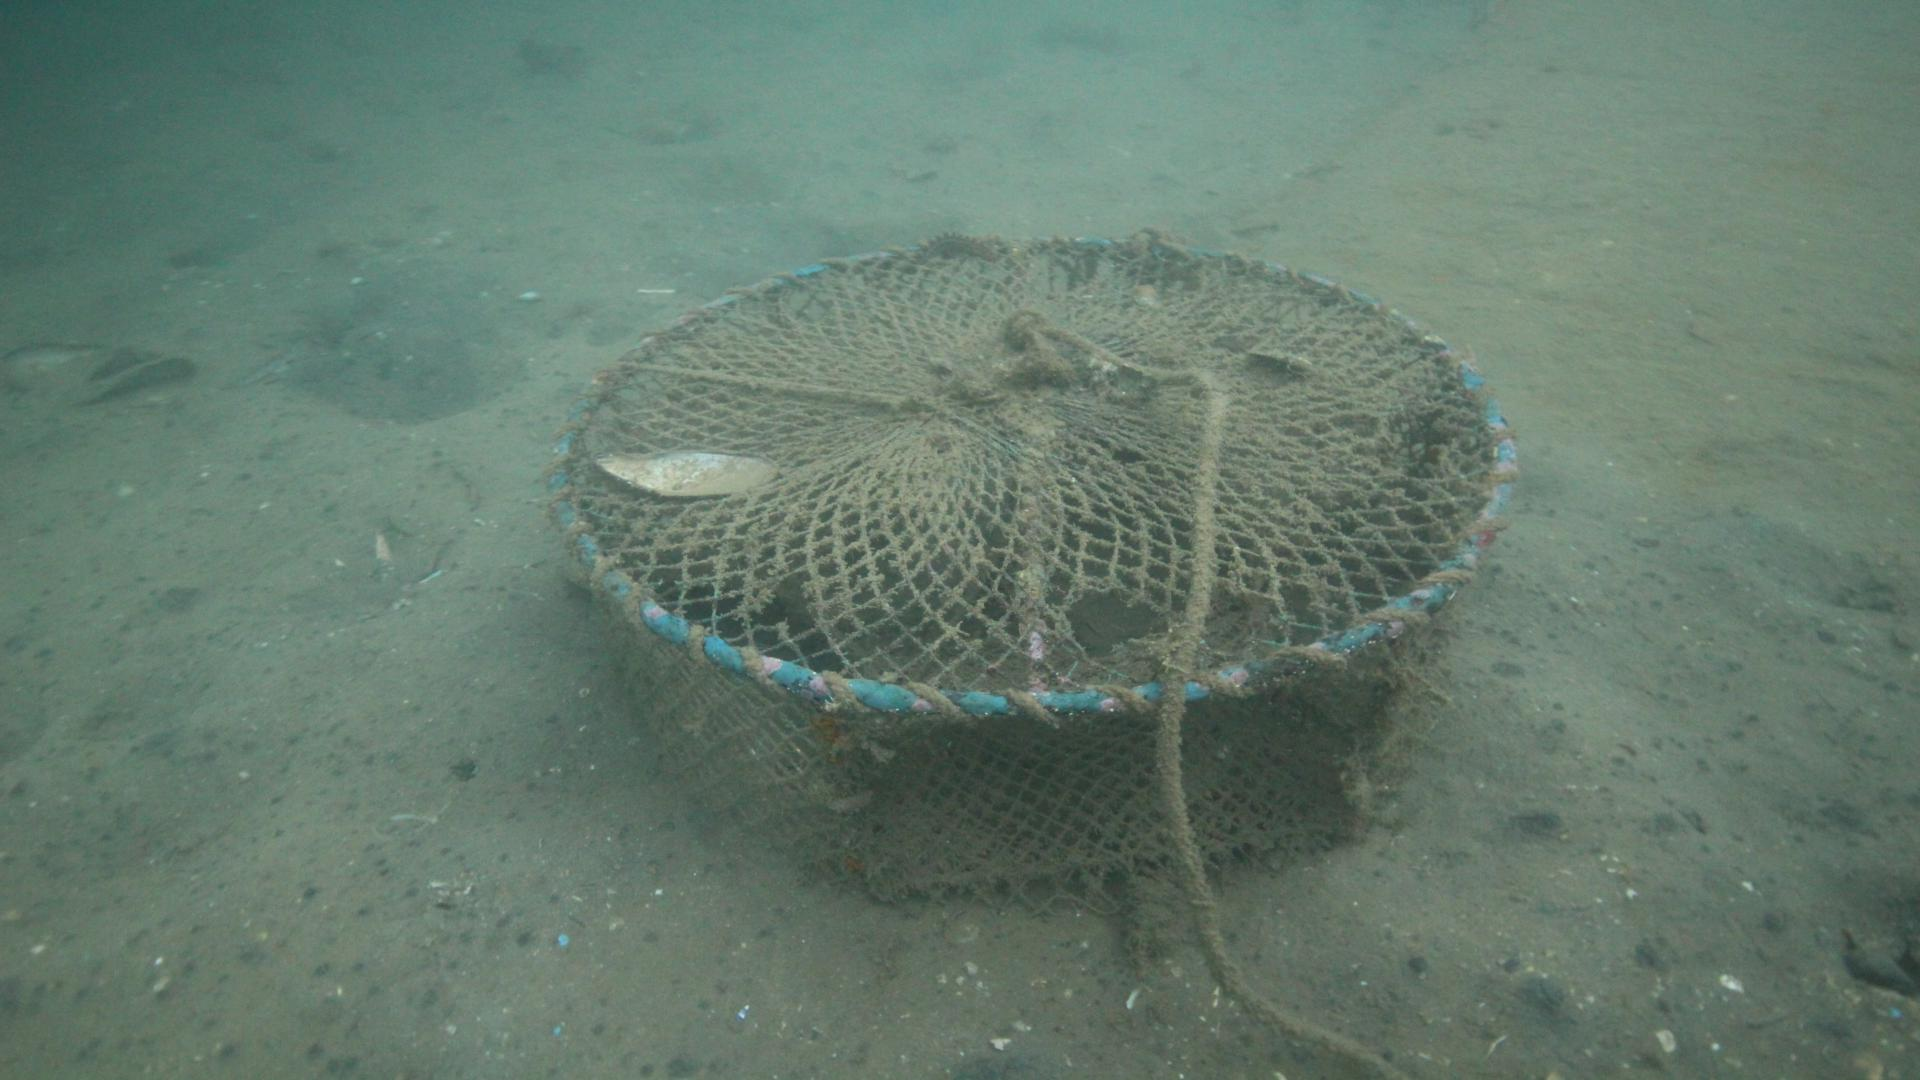circular fish trap: (549, 233, 1523, 909)
